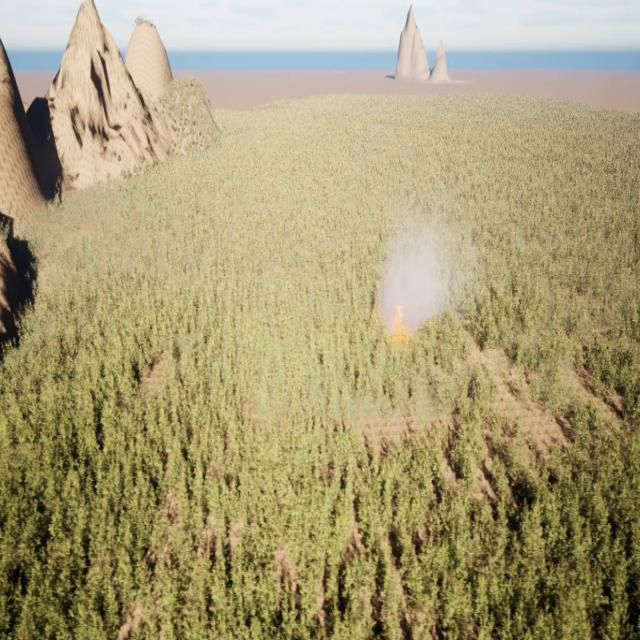fire: (391, 298, 406, 333)
smoke: (374, 210, 466, 338)
